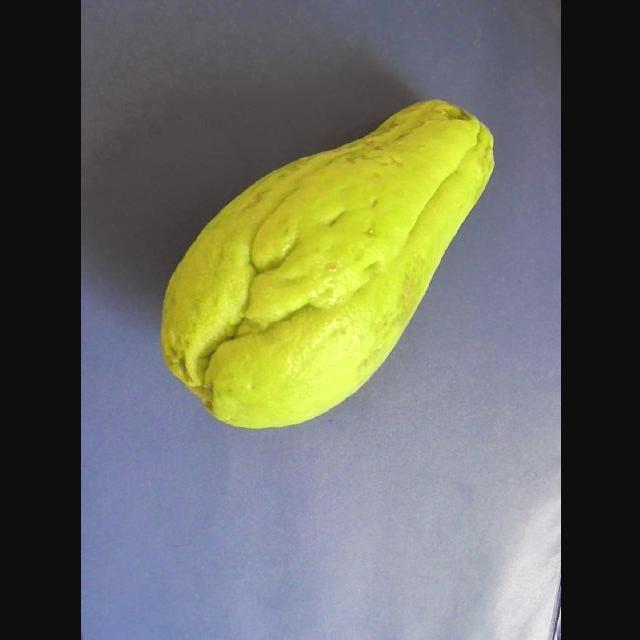chayote: (162, 100, 493, 427)
